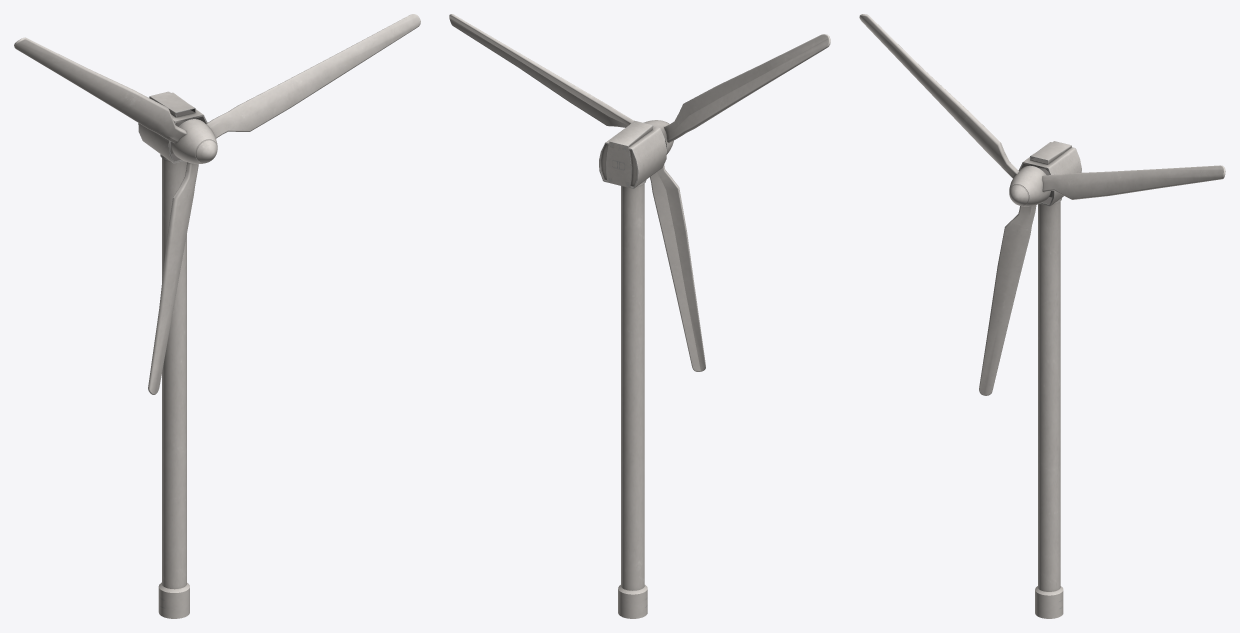
The model's file is WindTurbines.glb.
3 renders of one model, left to right at view 1: azimuth 30°, elevation 25°; view 2: azimuth 150°, elevation 25°; view 3: azimuth 330°, elevation 25°, orthographic. The views are drawn at different scales.
Visible parts, largest first — view 1: Blades, Main_Unit_WindTurbine_PBR_0; view 2: Main_Unit_WindTurbine_PBR_0, Blades; view 3: Blades, Main_Unit_WindTurbine_PBR_0.
Boxes of the visible parts, x1,y1,x2,y2 form: Blades: (14,14,420,394); Main_Unit_WindTurbine_PBR_0: (138,91,207,618); Main_Unit_WindTurbine_PBR_0: (599,120,666,618); Blades: (449,14,830,371); Blades: (859,14,1225,395); Main_Unit_WindTurbine_PBR_0: (1018,141,1081,618).
Bounding box in the file's own units: 4649 × 6991 × 1049.
Materials: 1 (1 with a texture image).
